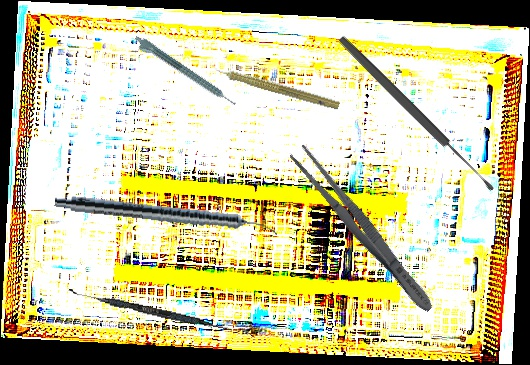Dressing Forceps: (286, 141, 440, 319)
Handpiece: (53, 193, 279, 238), (130, 33, 238, 113), (206, 58, 342, 113)
Spatula Surgical: (66, 288, 234, 333)
Surgical Spoon: (336, 33, 497, 195)
